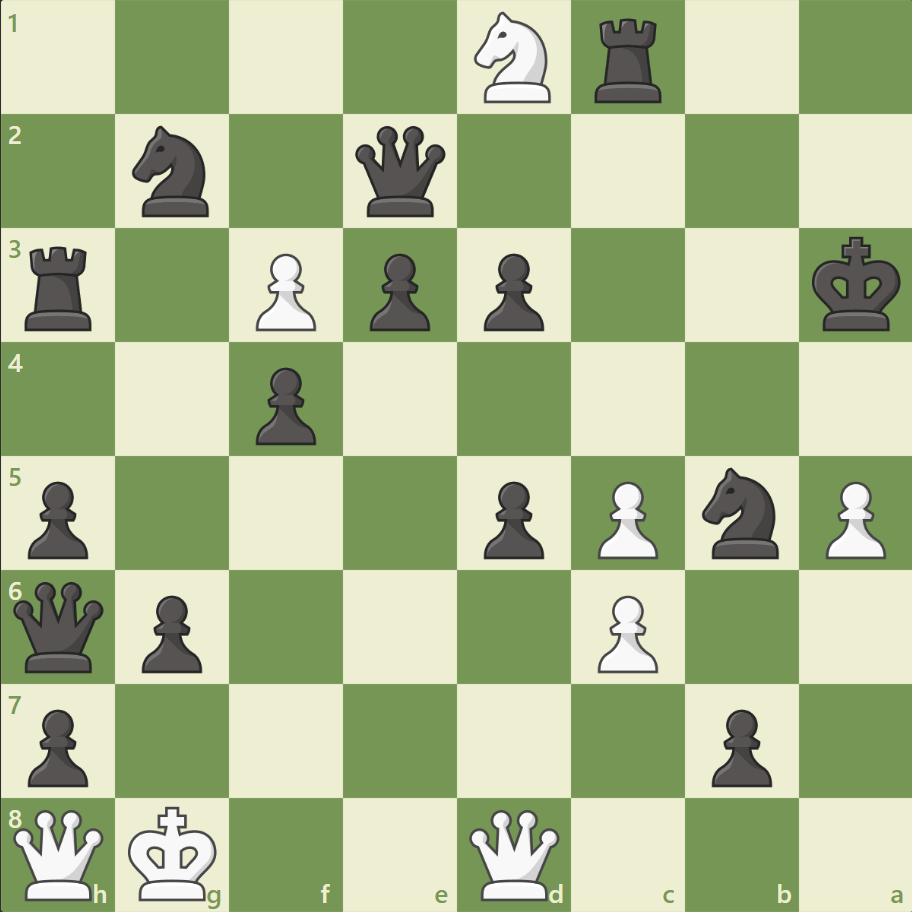K: (124, 798, 224, 906)
N: (465, 7, 562, 110)
P: (247, 246, 322, 337), (588, 586, 662, 677), (815, 473, 889, 564), (588, 473, 662, 564)
Q: (464, 804, 563, 903), (10, 804, 109, 903)
k: (806, 231, 906, 339)
n: (124, 121, 222, 223), (692, 461, 789, 564)
p: (701, 700, 776, 791), (20, 700, 95, 791), (133, 586, 208, 677), (474, 473, 549, 564), (20, 473, 95, 564), (247, 359, 322, 450), (474, 246, 549, 337), (361, 246, 435, 337)
q: (10, 576, 109, 676), (351, 122, 450, 222)
r: (19, 239, 102, 336), (587, 12, 670, 109)
